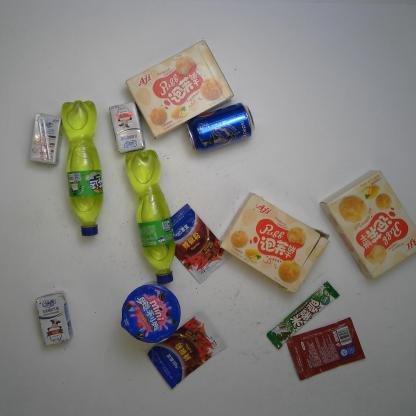Chocolate: (267, 282, 339, 353)
Dessert: (218, 192, 330, 294), (124, 39, 234, 140), (319, 168, 415, 281), (120, 281, 180, 345)
Drink: (126, 148, 174, 286), (60, 100, 106, 236), (185, 101, 256, 151)
Milk: (35, 292, 74, 348), (28, 110, 66, 166), (108, 102, 142, 154)
Seasoner: (148, 308, 226, 388), (170, 204, 233, 286), (287, 318, 366, 381)
